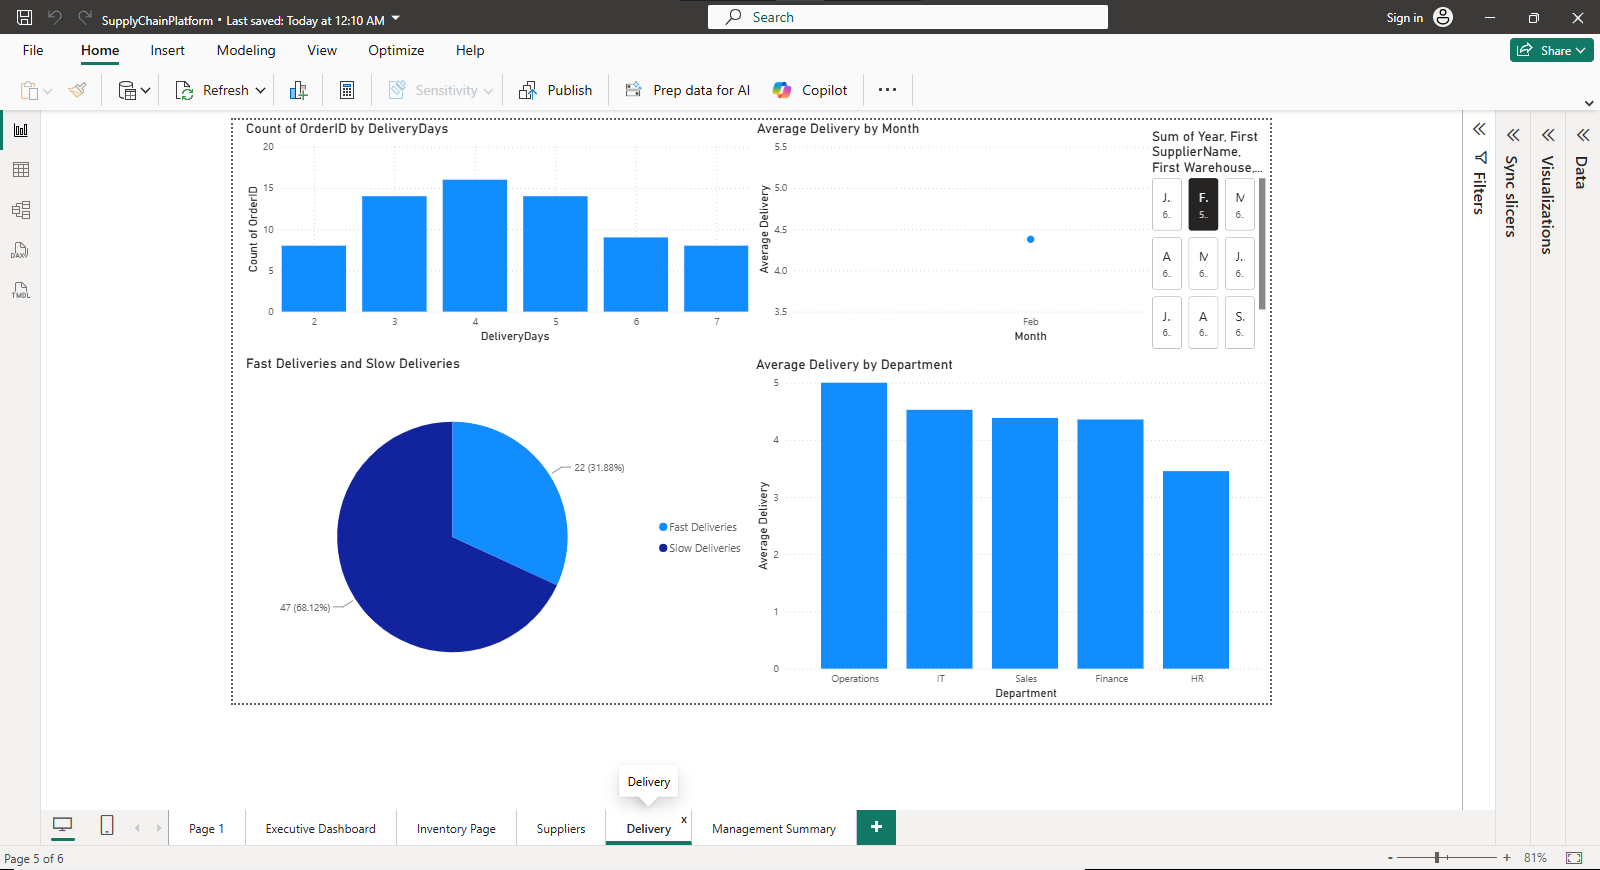

The dashboard page shown, as its layout file describes it:
{"tool":"powerbi","page":{"name":"Delivery","canvas":[1280,720],"ordinal":4},"visuals":[{"type":"columnChart","fields":{"Category":["Orders.DeliveryDays"],"Y":["CountNonNull(Orders.OrderID)"]},"box":[11,0,630.4,279.6],"z":0},{"type":"pieChart","fields":{"Y":["Orders.Fast Deliveries","Orders.Slow Deliveries"]},"box":[11,290.5,630.4,430.3],"z":1},{"type":"lineChart","fields":{"Category":["Calendar.Month"],"Y":["Orders.Average Delivery"]},"box":[641.4,0,638.6,279.6],"z":2},{"type":"clusteredColumnChart","fields":{"Category":["Orders.Department"],"Y":["Orders.Average Delivery"]},"box":[641,291,639,429],"z":3},{"type":"advancedSlicerVisual","fields":{"Label":["Sum(Calendar.Year)"],"Values":["Calendar.Month"]},"box":[1129.3,10,150.7,279.8],"z":4}]}

Visuals, with their boxes on the page's 1280x720 design canvas (x1, y1, x2, y2). These are canvas units, not pixel positions in the 1600x870 screenshot, which may show the page scaled, cropped or inside an application window:
columnChart - Orders.DeliveryDays x CountNonNull(Orders.OrderID): rect(11, 0, 641, 280)
pieChart - Orders.Fast Deliveries x Orders.Slow Deliveries: rect(11, 290, 641, 721)
lineChart - Calendar.Month x Orders.Average Delivery: rect(641, 0, 1280, 280)
clusteredColumnChart - Orders.Department x Orders.Average Delivery: rect(641, 291, 1280, 720)
advancedSlicerVisual - Sum(Calendar.Year) x Calendar.Month: rect(1129, 10, 1280, 290)
